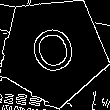O_SE: (24, 19, 83, 83)
